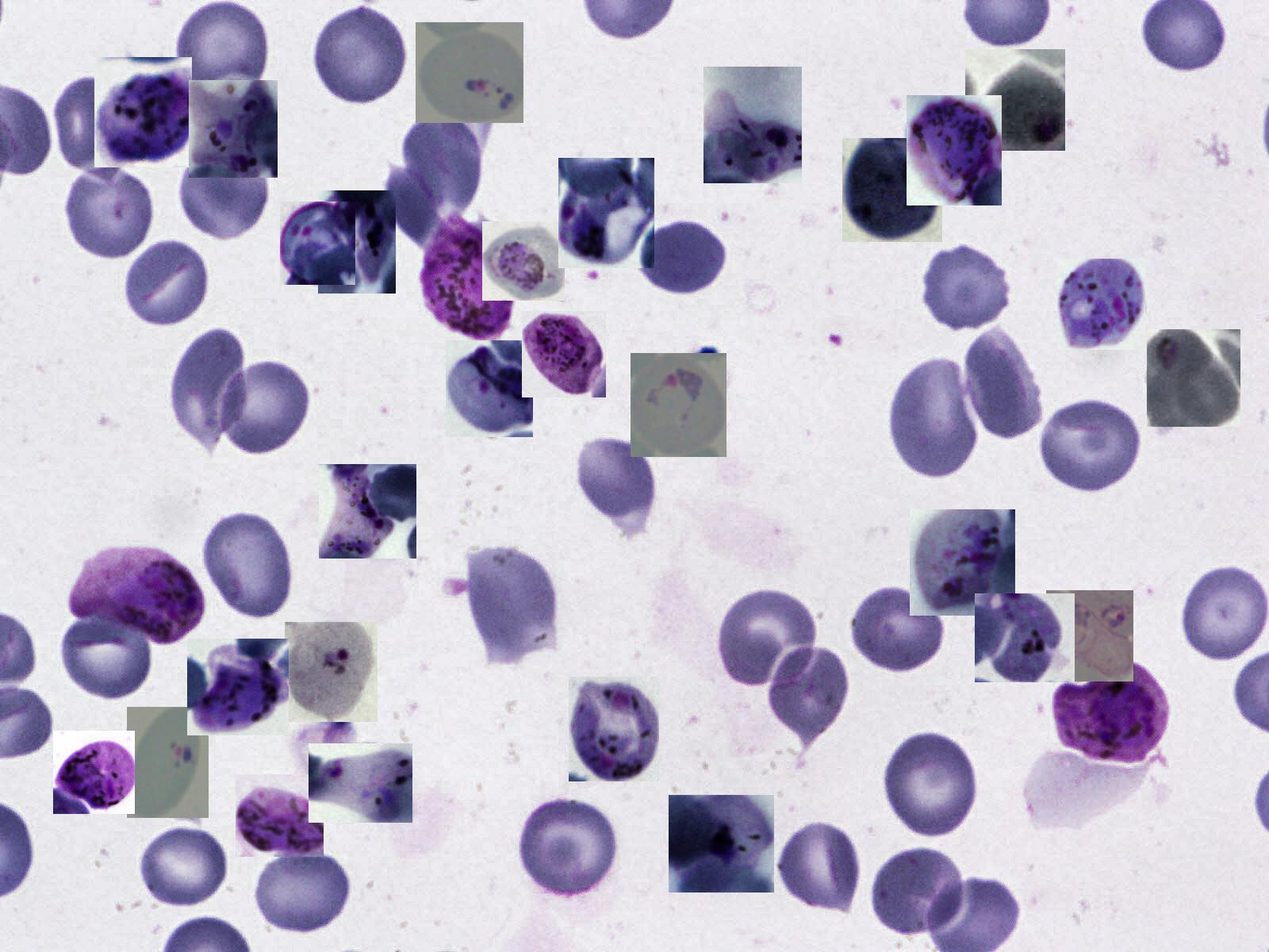Infected: (67, 543, 204, 643), (1049, 663, 1173, 765), (421, 214, 513, 342), (704, 67, 802, 183), (910, 509, 1015, 616), (416, 22, 523, 123), (94, 57, 192, 167), (558, 158, 654, 268), (907, 95, 1002, 205), (842, 138, 942, 242), (965, 49, 1065, 151), (669, 795, 774, 892), (631, 353, 727, 457), (187, 639, 289, 735), (569, 677, 659, 781), (286, 622, 378, 722), (320, 464, 416, 559), (1147, 329, 1240, 427), (127, 707, 209, 818), (975, 593, 1075, 682), (189, 80, 278, 178), (446, 340, 533, 437), (309, 743, 412, 823), (318, 190, 396, 294), (1057, 259, 1145, 350), (1046, 590, 1133, 681), (236, 774, 324, 857), (522, 311, 606, 397), (53, 731, 135, 814), (482, 221, 565, 301), (280, 202, 355, 285)
Uninfected: (399, 104, 489, 237), (888, 352, 982, 478), (463, 547, 565, 663), (200, 510, 297, 624), (1037, 394, 1145, 494), (514, 798, 623, 896), (712, 586, 819, 685), (213, 357, 316, 459), (884, 731, 981, 839), (309, 6, 412, 107), (171, 321, 247, 455), (174, 0, 273, 102), (845, 583, 952, 676), (961, 326, 1048, 438), (1180, 562, 1268, 665), (768, 639, 853, 743), (54, 75, 139, 179), (868, 846, 964, 938), (178, 147, 272, 240), (575, 431, 662, 530), (65, 167, 154, 262), (922, 241, 1014, 332), (255, 853, 352, 935), (776, 822, 858, 919), (60, 616, 152, 698), (123, 238, 209, 325), (140, 827, 226, 911), (638, 221, 730, 294)
